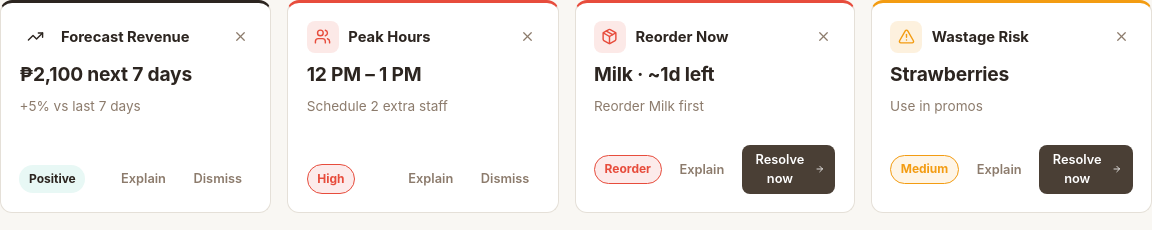
it: AiInsights › Explain button › should fall back to template wording when the request fails
Click the button with test id "insight-explain-forecast" at (144, 179), box [111, 163, 176, 194]
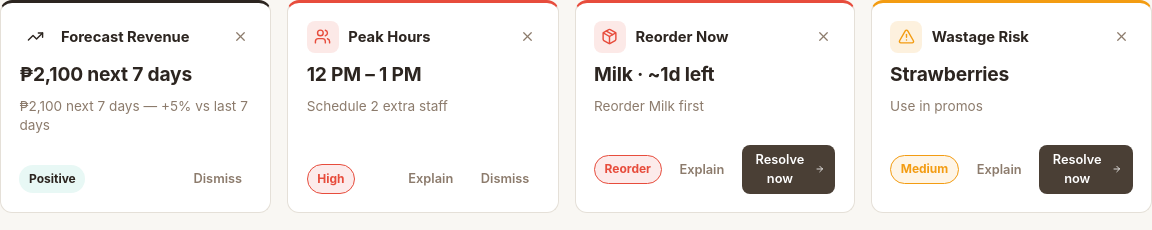
Expected: the text "₱2,100 next 7 days — +5% vs last 7 days" is shown, [19, 97, 252, 136]
Expected: the text with test id "insight-explained-forecast" shows "₱2,100 next 7 days", [19, 98, 248, 133]
